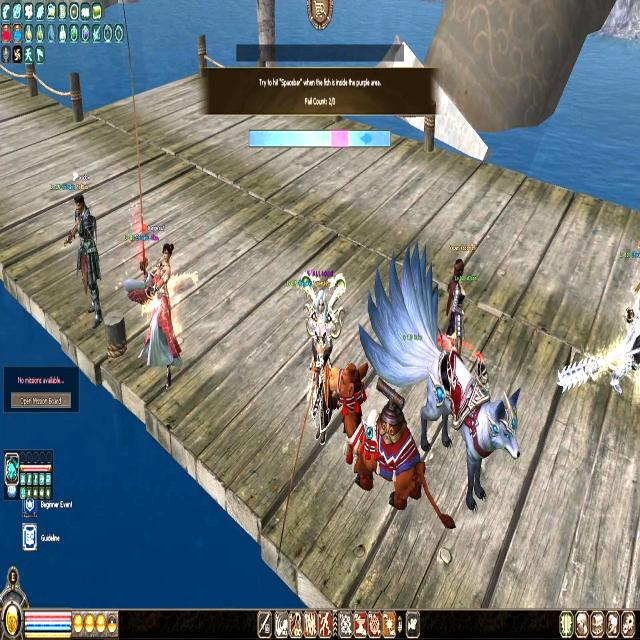fishes: (361, 132, 373, 144)
